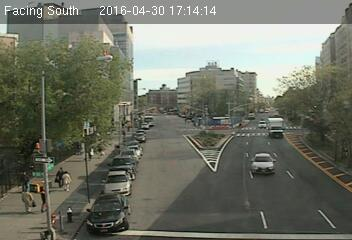neg: (280, 44, 308, 80), (160, 52, 181, 81), (66, 67, 85, 93), (152, 172, 171, 198), (258, 154, 276, 178), (17, 49, 35, 73), (223, 58, 240, 82), (207, 136, 224, 159), (260, 89, 277, 112), (58, 205, 75, 227), (287, 199, 304, 221), (203, 189, 220, 211), (117, 175, 133, 197), (96, 46, 112, 66), (150, 109, 165, 129)
pos: (16, 189, 35, 214), (17, 171, 33, 191), (55, 166, 68, 184), (61, 172, 73, 189), (88, 147, 97, 159)
